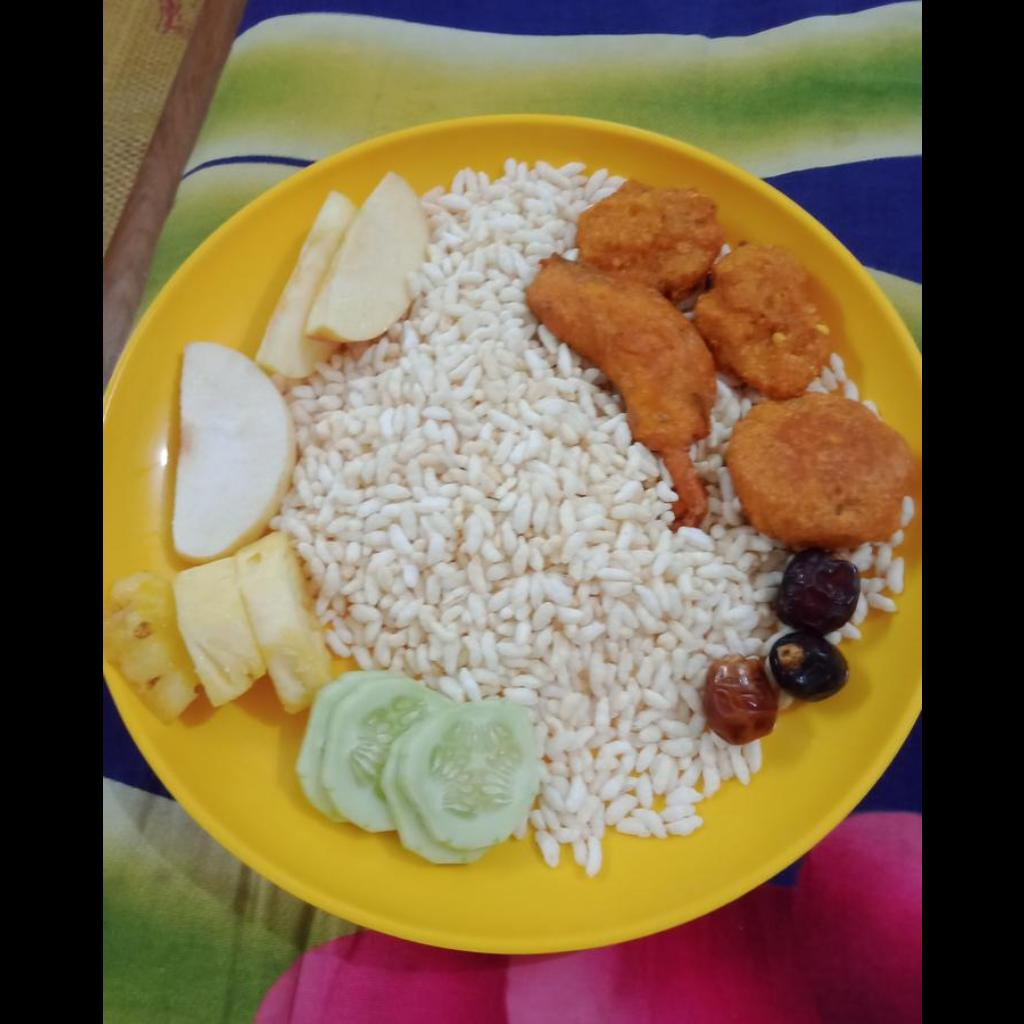apple: (171, 173, 426, 561)
beguni: (519, 251, 717, 517)
chop-alu: (575, 181, 826, 399), (728, 401, 920, 537)
cucumber: (299, 678, 539, 861)
dates: (703, 552, 869, 738)
pineapple: (102, 535, 319, 711)
puffed-rice: (274, 160, 785, 875)
